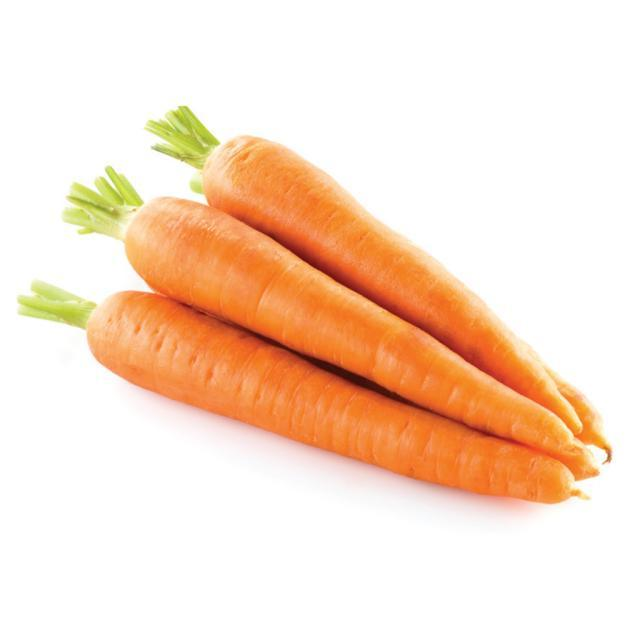carrot: (124, 188, 589, 462), (199, 129, 585, 440), (71, 288, 580, 509)
